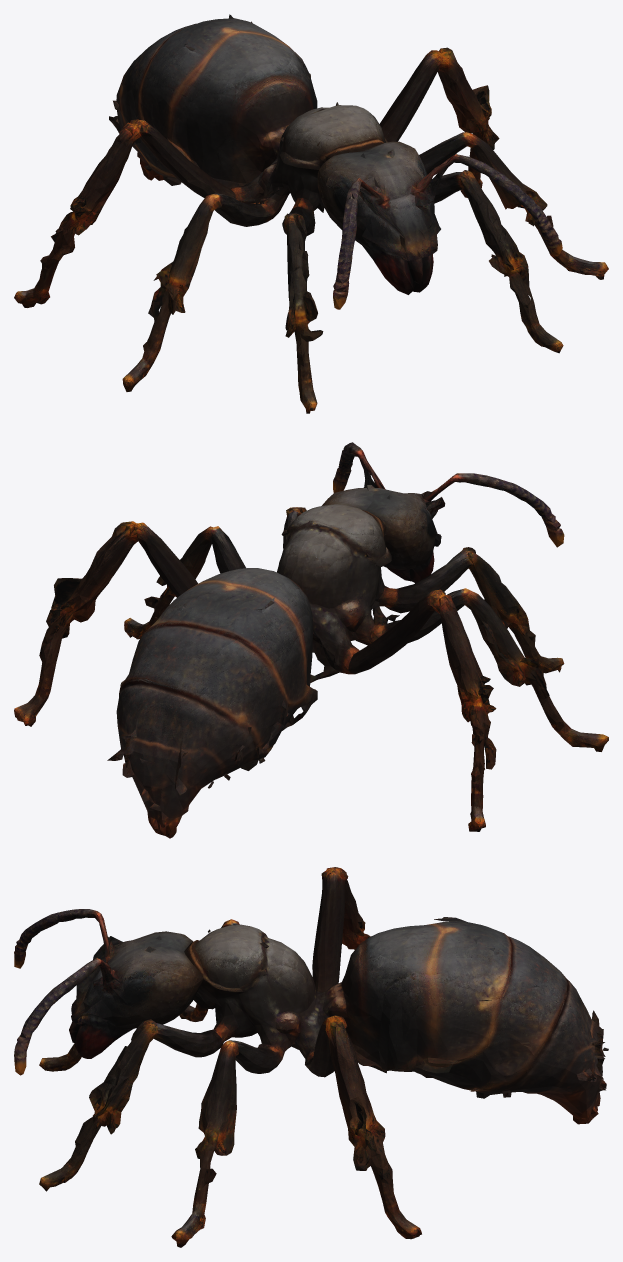
The model's file is colony-hero-ant.glb.
3 views of the same model, one above another, from view 1: azimuth 30°, elevation 25°; view 2: azimuth 150°, elevation 25°; view 3: azimuth 270°, elevation 25° (orthographic).
Parts seen in each view (by area): view 1: world; view 2: world; view 3: world.
Boxes of the visible parts, x1,y1,x2,y2 form: world: [14, 14, 608, 413]; world: [14, 442, 608, 838]; world: [14, 867, 608, 1247].
Bounding box in the file's own units: 0.9168 × 0.3765 × 0.9923.
1 material, 1 textured.
